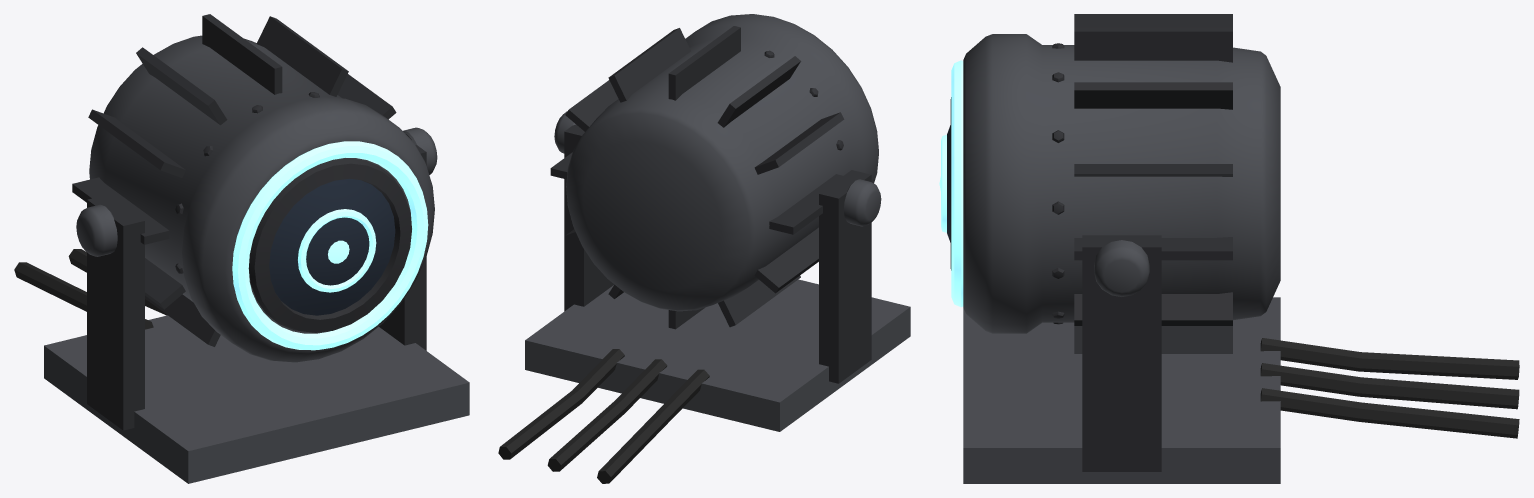
The model's file is Null_Emitter.glb.
The picture shows the model from 3 angles, left to right: view 1: azimuth 30°, elevation 25°; view 2: azimuth 150°, elevation 25°; view 3: azimuth 270°, elevation 25°; orthographic projection. The views are drawn at different scales.
Visible parts, largest first — view 1: Null_Emitter; view 2: Null_Emitter; view 3: Null_Emitter.
Boxes of the visible parts, x1,y1,x2,y2 form: Null_Emitter: (14, 14, 469, 483); Null_Emitter: (498, 14, 910, 483); Null_Emitter: (939, 14, 1519, 483).
Bounding box in the file's own units: 2.2 × 2.11 × 2.93.
